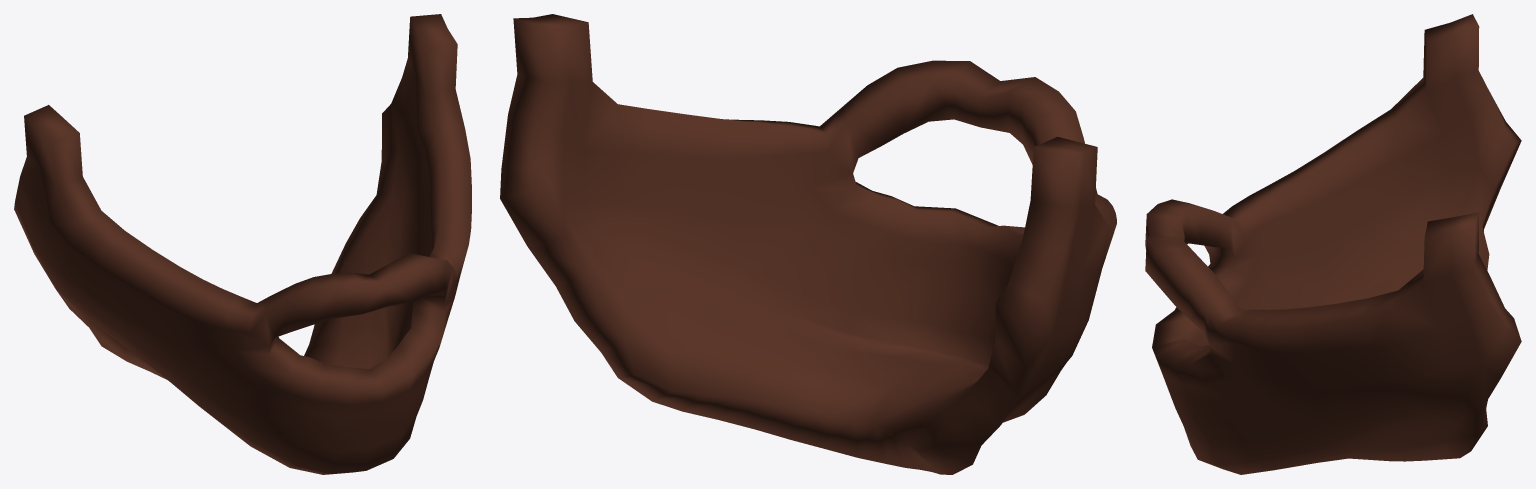
The model's file is Beard.fbx.
The picture shows the model from 3 angles, left to right: view 1: azimuth 30°, elevation 25°; view 2: azimuth 150°, elevation 25°; view 3: azimuth 270°, elevation 25°; orthographic projection. The views are drawn at different scales.
Visible parts, largest first — view 1: Beard; view 2: Beard; view 3: Beard.
Boxes of the visible parts, x1,y1,x2,y2 form: Beard: (14,14,471,474); Beard: (500,14,1116,474); Beard: (1145,14,1521,474).
Size of the model in its own units: 0.1466 by 0.1079 by 0.1087.
